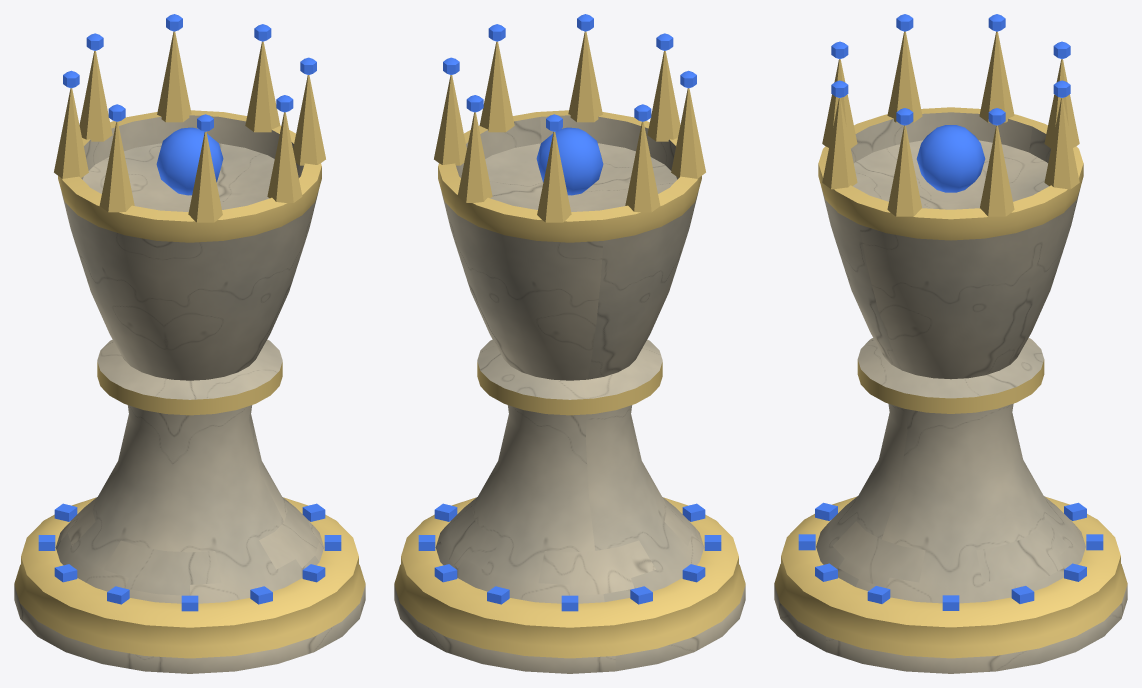
The model's file is queen_light.glb.
3 renders of one model, left to right at view 1: azimuth 30°, elevation 25°; view 2: azimuth 150°, elevation 25°; view 3: azimuth 270°, elevation 25°, orthographic.
Visible parts, largest first — view 1: Piece_Queen_Light_Mesh; view 2: Piece_Queen_Light_Mesh; view 3: Piece_Queen_Light_Mesh.
Part boxes in pixels (left/top/right/bottom): Piece_Queen_Light_Mesh: left=14, top=14, right=365, bottom=673; Piece_Queen_Light_Mesh: left=394, top=14, right=745, bottom=673; Piece_Queen_Light_Mesh: left=774, top=14, right=1127, bottom=673.
Size of the model in its own units: 0.72 by 1.21 by 0.72.
3 materials, 1 textured.
